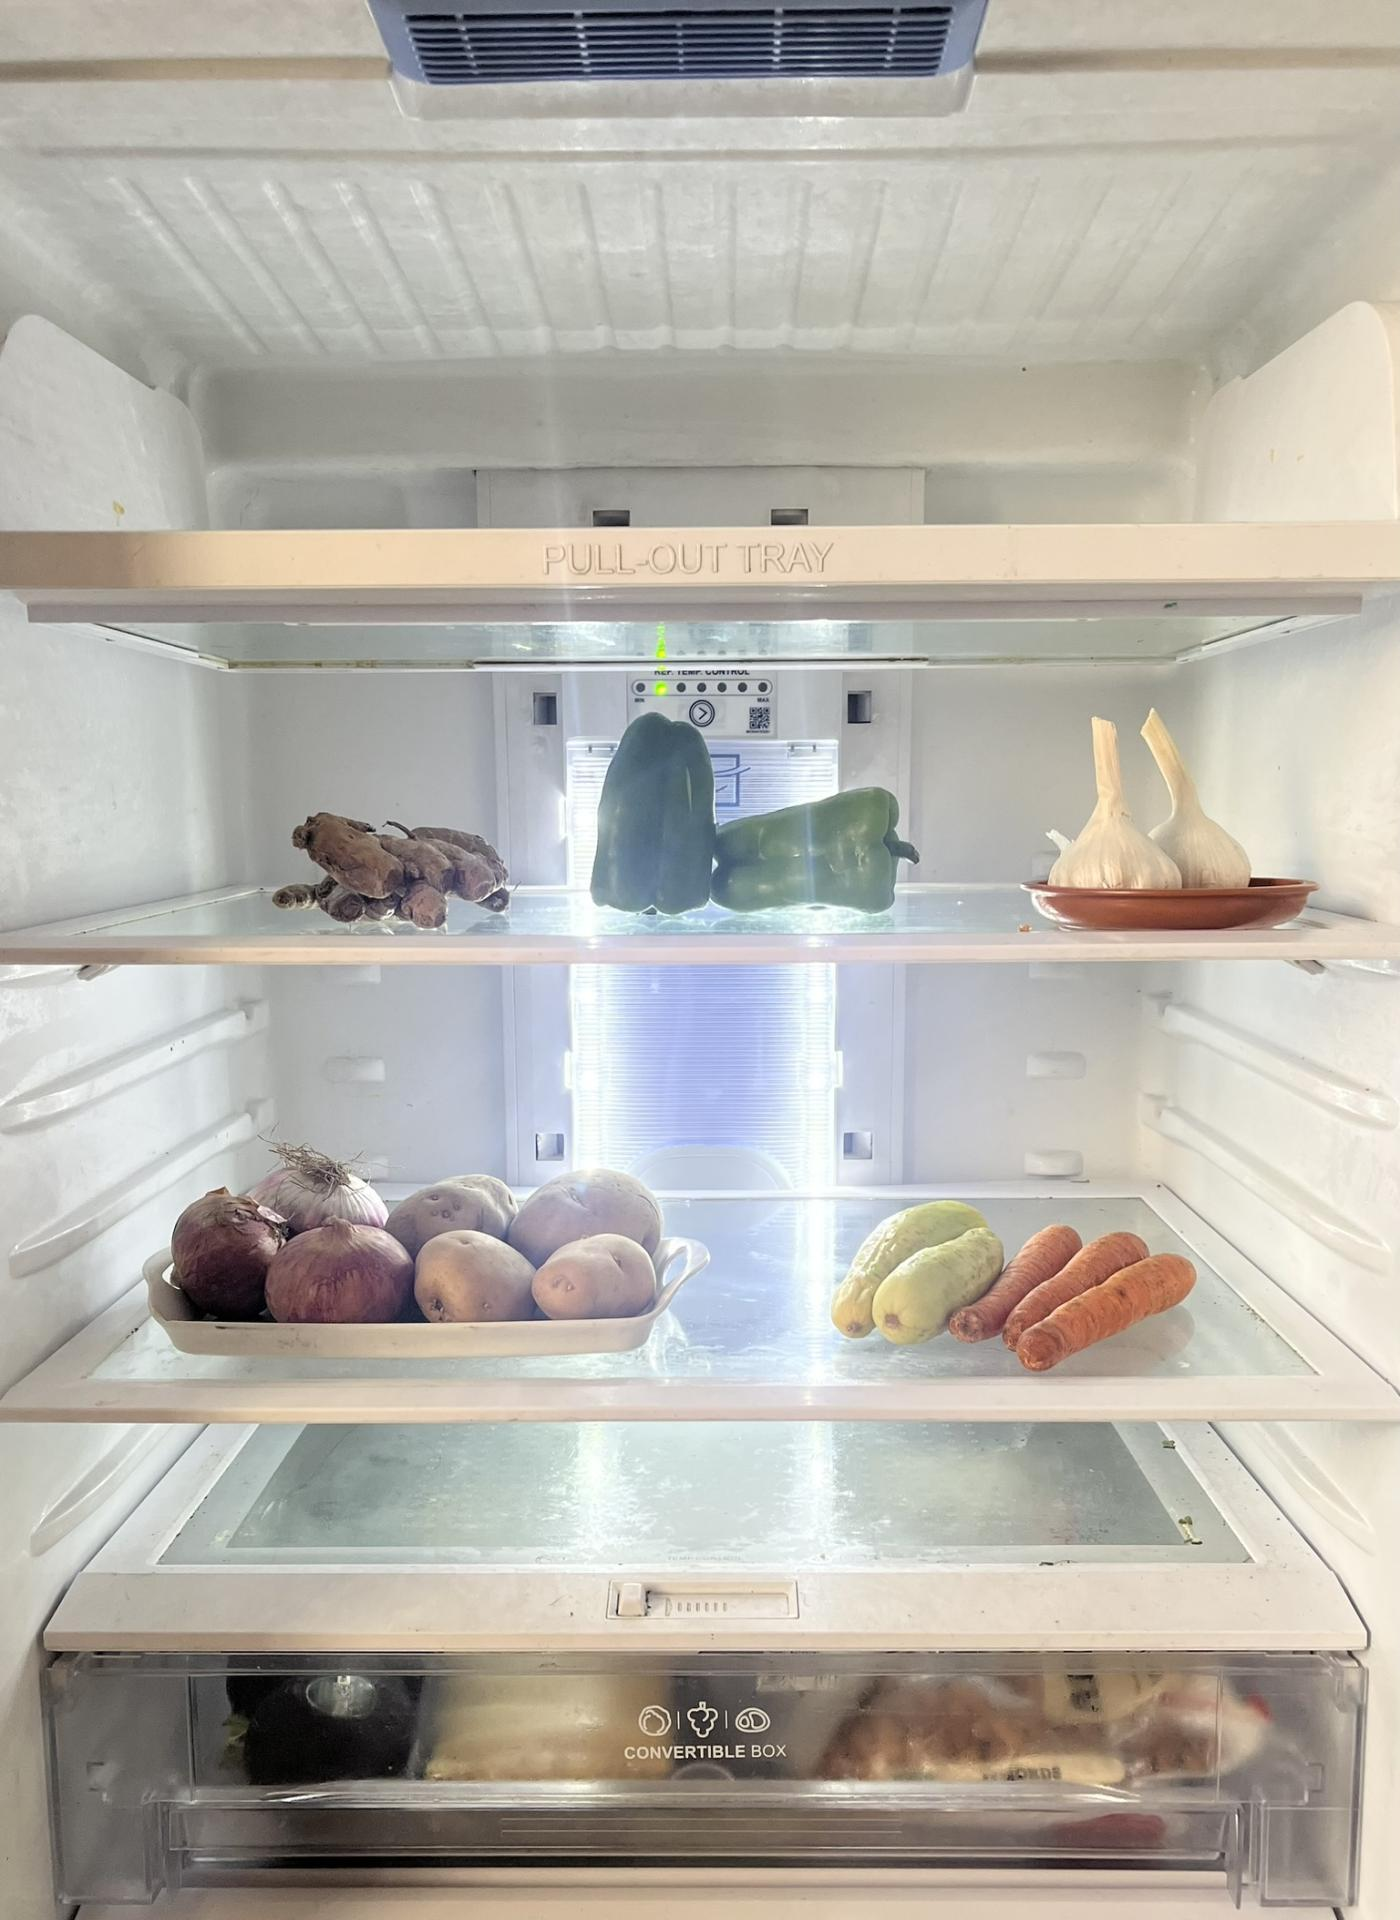capsicum: (586, 713, 711, 909), (711, 787, 911, 906)
carrots: (927, 1222, 1200, 1362)
cucumber: (829, 1197, 999, 1340)
garlic: (1045, 701, 1255, 900)
ginger: (270, 803, 519, 935)
onion: (161, 1154, 413, 1313)
potato: (380, 1175, 665, 1325)
